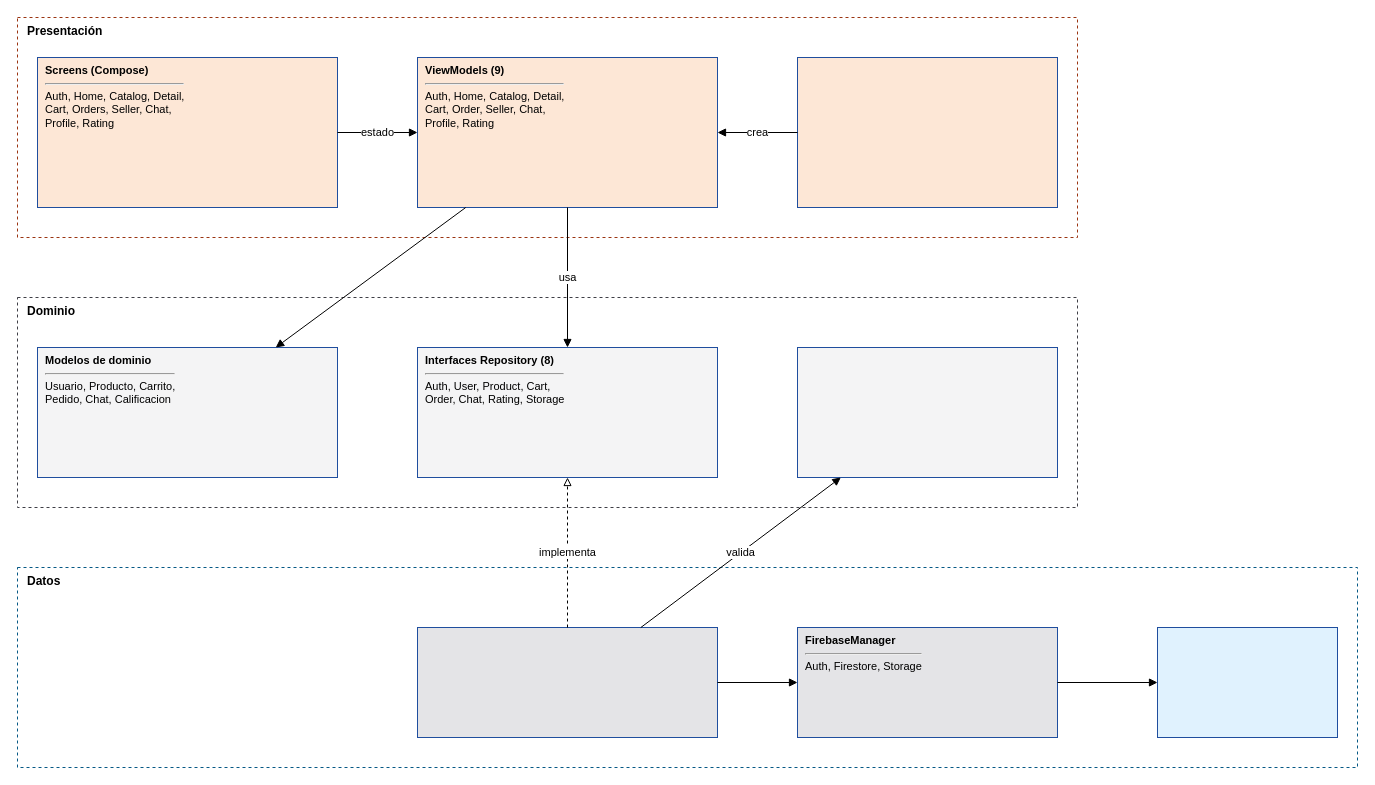
The diagram is 1375 pixels wide and 785 high, and some of its shapes have lost their labels. The shapes that lost their labels are listed below. From the top down, each one's centre as x and y in pixels, then its label:
At [927,132]: "Navegación y servicios AppNavHost, NavViewModel AppNotificationService/Helper".
At [927,412]: "OrderStatus Transiciones de pedido".
At [567,682]: "Firebase*Repository (8) Implementaciones de datos".
At [1247,682]: "«nube» Firebase el-mercado10".
